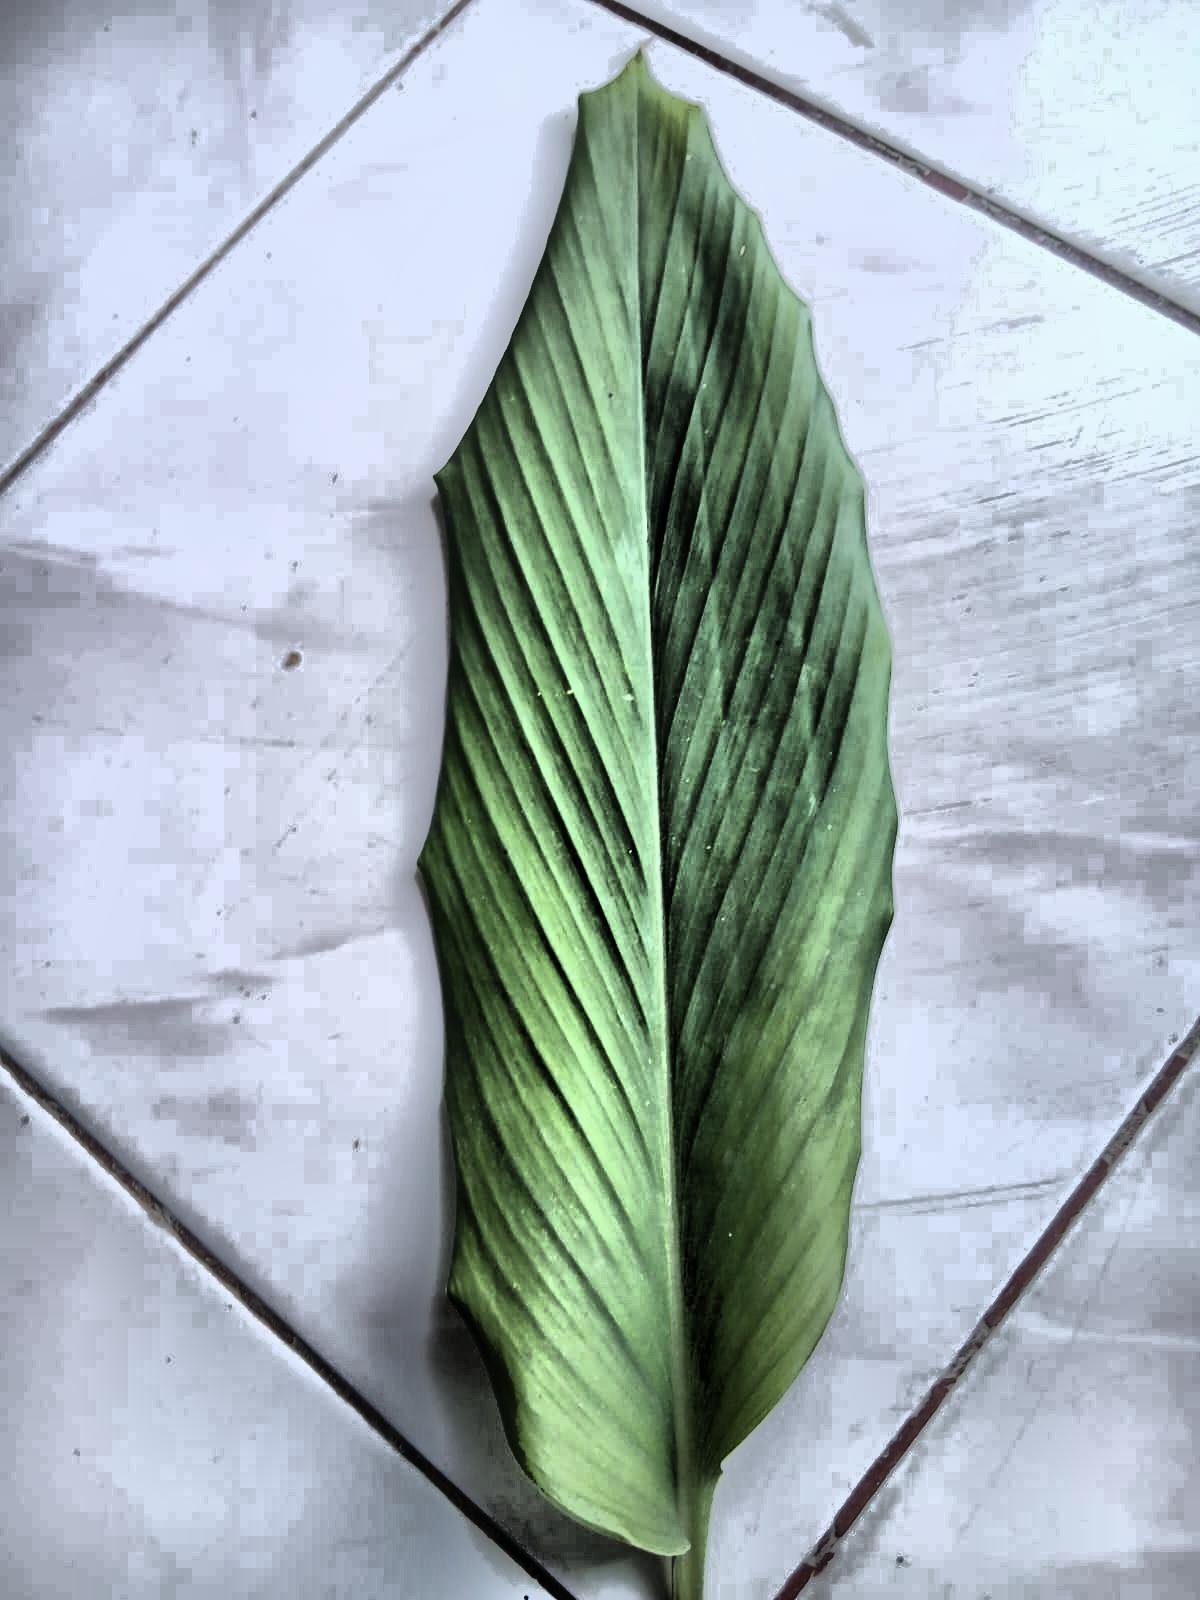daun kunyit: (420, 58, 896, 1599)
